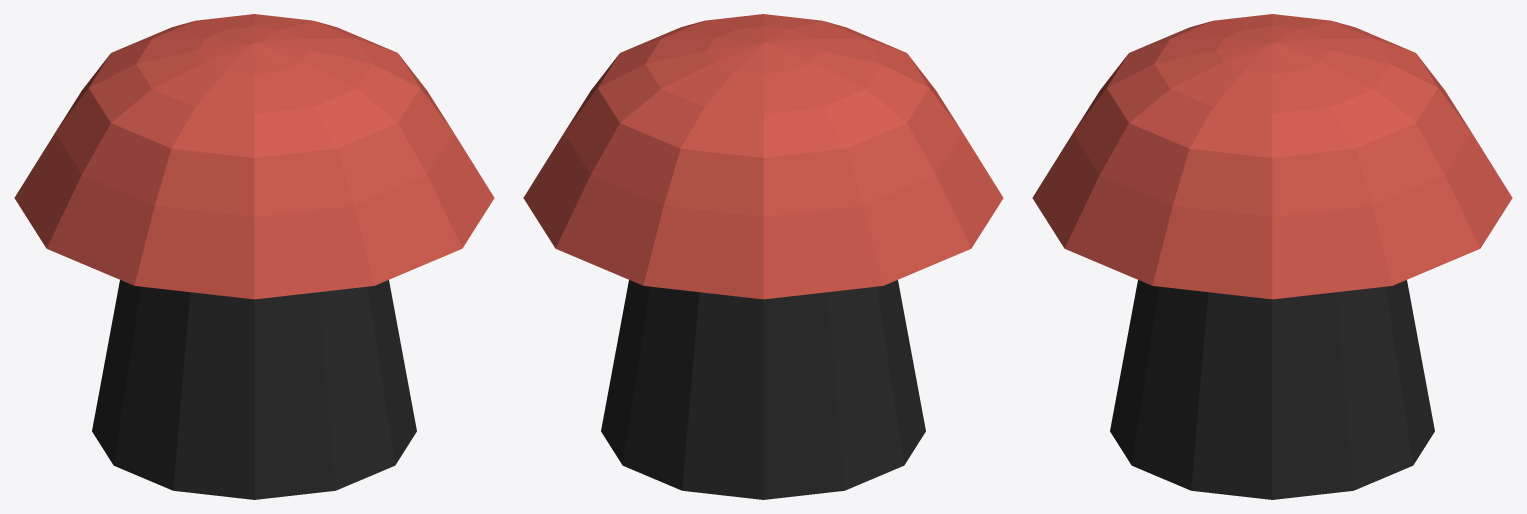
Rendered from Mushroom.fbx.
The picture shows the model from 3 angles, left to right: view 1: azimuth 30°, elevation 25°; view 2: azimuth 150°, elevation 25°; view 3: azimuth 270°, elevation 25°; orthographic projection.
Visible parts, largest first — view 1: Circle.001; view 2: Circle.001; view 3: Circle.001.
Part boxes in pixels (box(x1,y1,x2,y2)): Circle.001: box(14, 14, 494, 499); Circle.001: box(523, 14, 1003, 499); Circle.001: box(1032, 14, 1512, 499).
Size of the model in its own units: 69.97 by 62.39 by 69.97.
